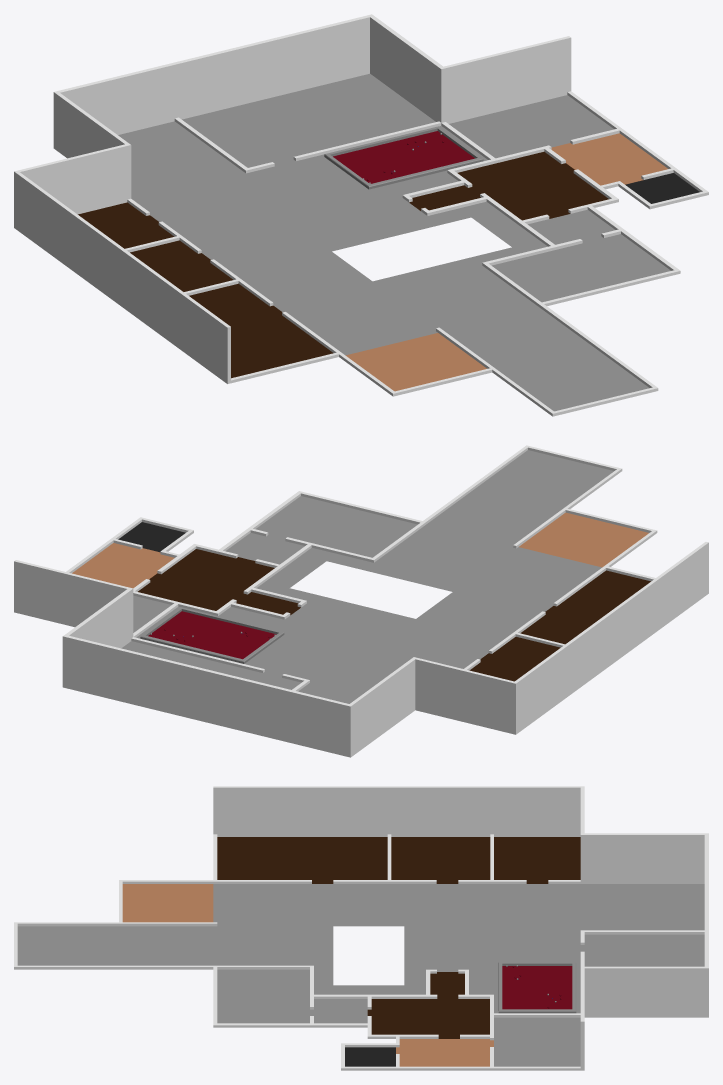
The model's file is Salle_015.FBX.
3 views of the same model, one above another, from view 1: azimuth 30°, elevation 25°; view 2: azimuth 150°, elevation 25°; view 3: azimuth 270°, elevation 25° (orthographic). The views are drawn at different scales.
Parts seen in each view (by area): view 1: Piece_012, Terrain_Petanque; view 2: Piece_012, Terrain_Petanque; view 3: Piece_012, Terrain_Petanque.
Boxes of the visible parts, bbox=[...] form: Piece_012: bbox=[14, 14, 708, 416]; Terrain_Petanque: bbox=[324, 126, 483, 189]; Piece_012: bbox=[14, 445, 708, 757]; Terrain_Petanque: bbox=[140, 607, 284, 663]; Piece_012: bbox=[14, 786, 708, 1070]; Terrain_Petanque: bbox=[498, 962, 576, 1013].
Size of the model in its own units: 3085 by 300 by 3847.
